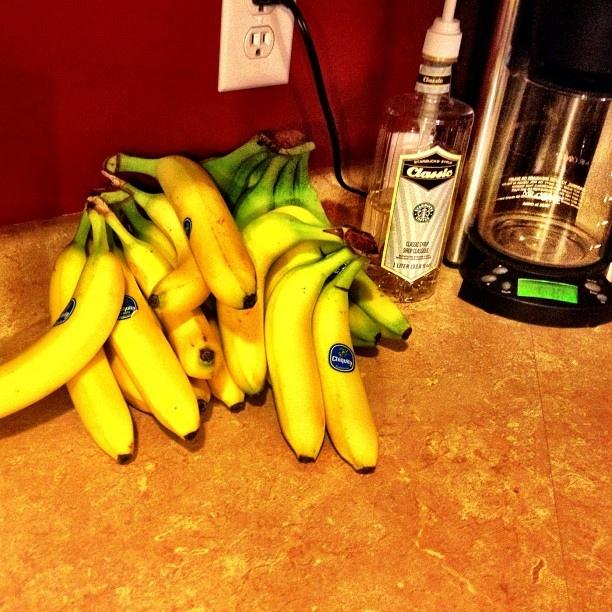banana: (1, 195, 126, 418), (102, 152, 258, 310), (88, 197, 223, 379), (217, 212, 350, 396), (48, 201, 134, 464), (295, 152, 413, 340), (274, 146, 382, 346), (106, 226, 202, 441), (264, 248, 354, 464), (101, 170, 210, 314), (312, 257, 378, 473), (264, 240, 344, 321), (200, 298, 245, 412), (116, 191, 178, 269), (198, 136, 268, 201), (230, 154, 288, 232), (103, 338, 152, 413), (224, 150, 272, 214), (245, 153, 278, 191), (187, 374, 210, 413)
